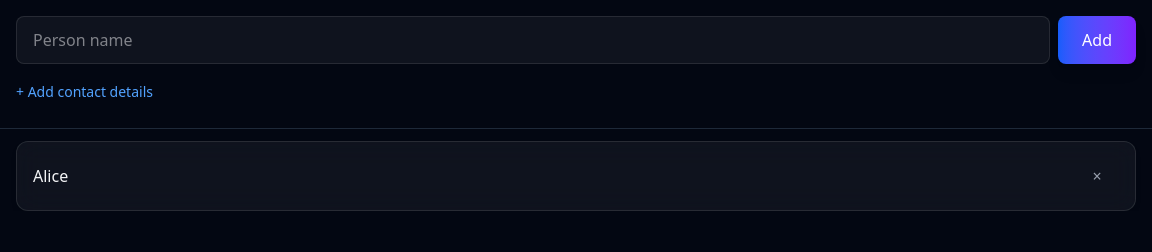
Test: PeoplePanel › shows error for duplicate name (case-insensitive)
Step 1. Type "alice" into the field with placeholder "Person name" → (533, 40), box left=16, top=16, right=1050, bottom=64
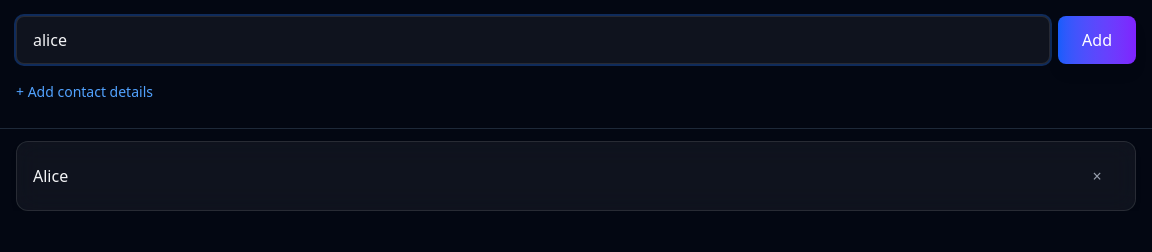
Step 2. Click the button "Add" → (1097, 40), box left=1058, top=16, right=1136, bottom=64
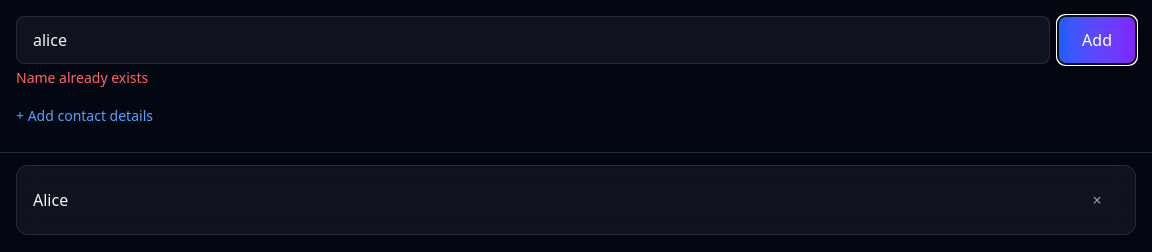
Check: the text "Name already exists" is shown, box left=16, top=68, right=148, bottom=87
